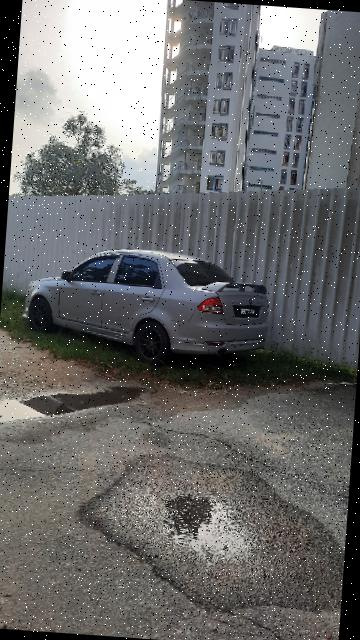License_Plate: (236, 302, 262, 320)
car: (17, 240, 283, 372)
